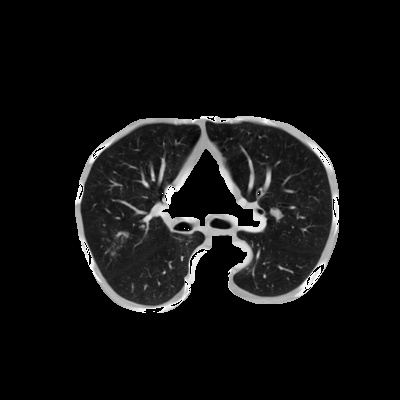PN: (271, 208, 281, 218)
